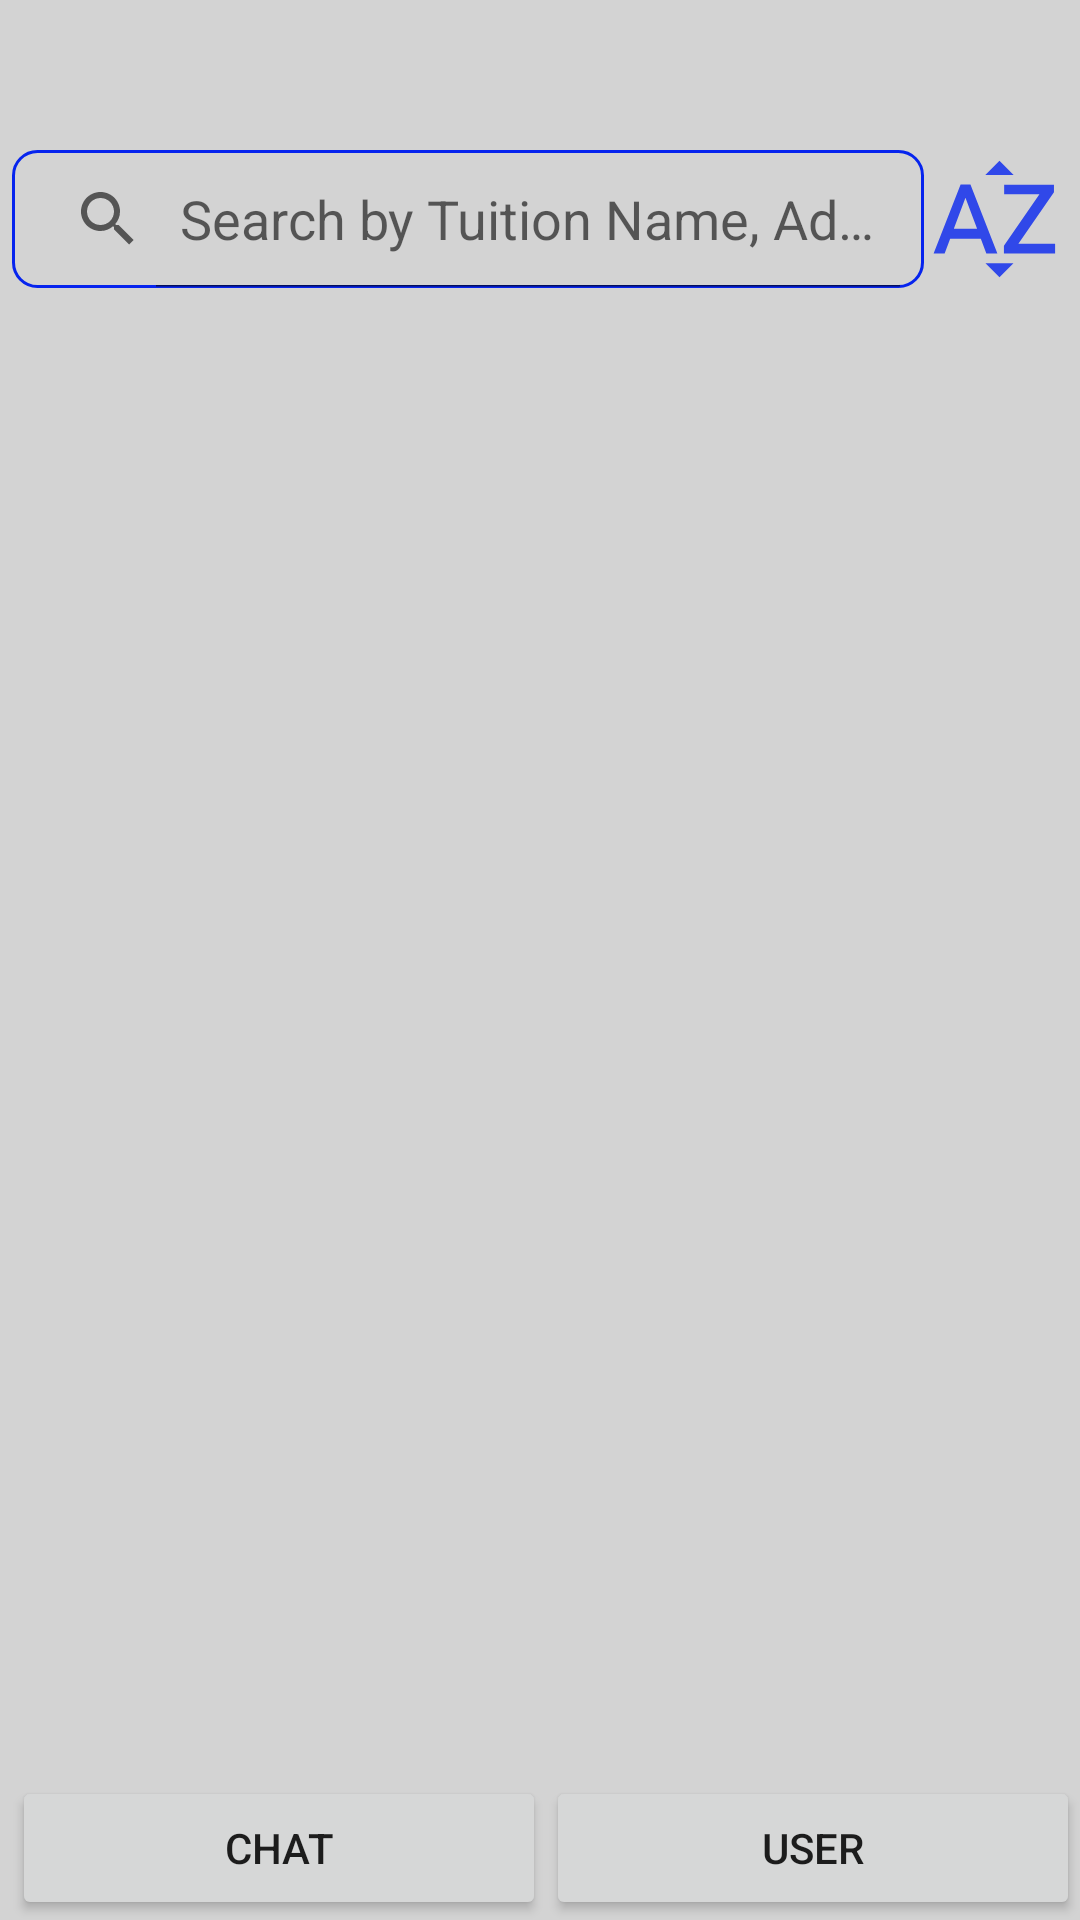

Point at icon controls on the screen. Image size 1080 × 1920, points as (x=x, y=y).
sort: (x=994, y=219)
